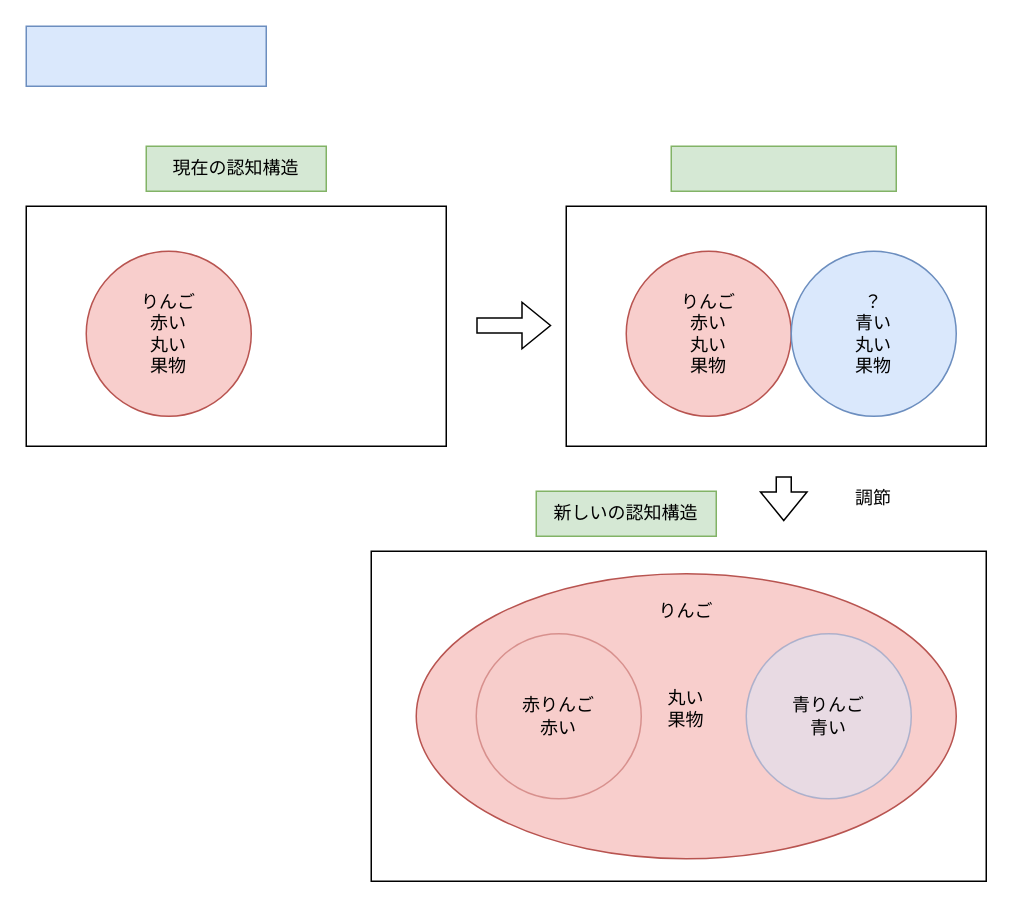
Image size: 1013x908. Some labels were removed from this diagram. The centre of each missing label's shape, as x and y in pixels:
"同化と調節" belongs at pixel 145 55.
"認知の不均衡" belongs at pixel 783 168.
